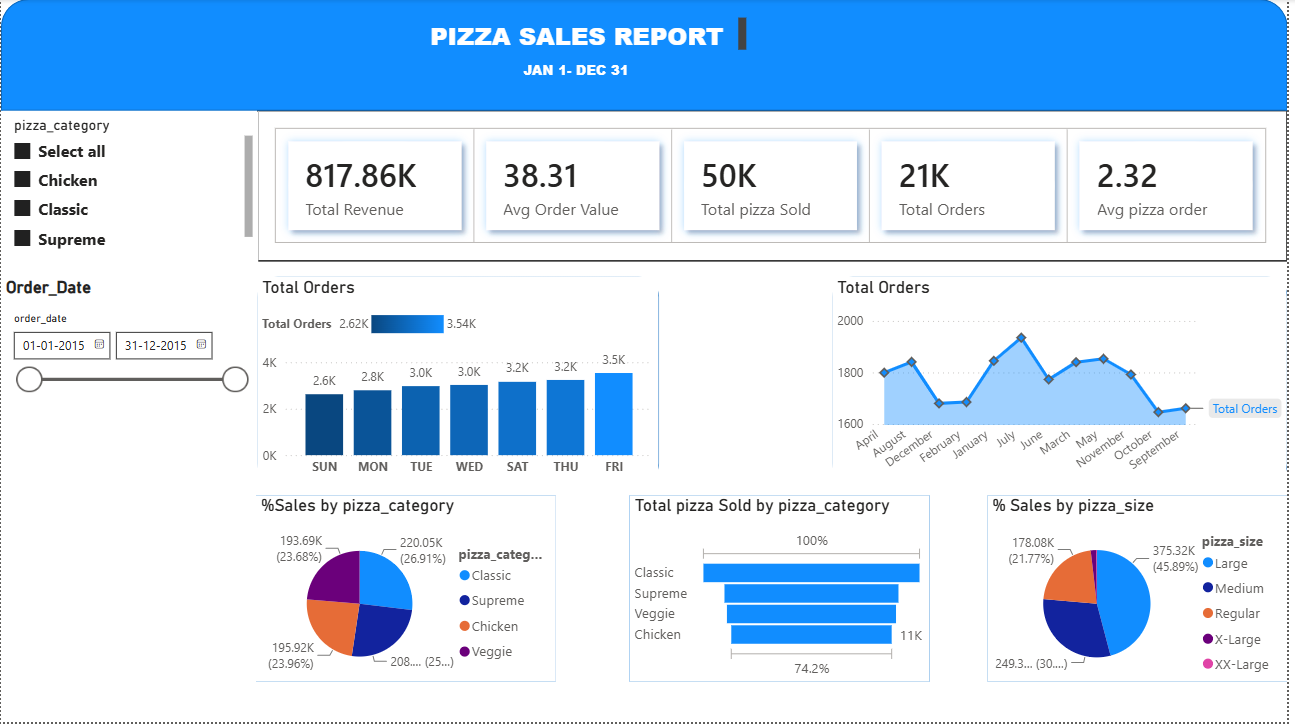

The dashboard page shown, as its layout file describes it:
{"tool":"powerbi","page":{"name":"Dashboard","canvas":[1280,720],"ordinal":0},"visuals":[{"type":"cardVisual","fields":{"Data":["pizza_sales.Total Revenue","pizza_sales.Avg Order Value","pizza_sales.Total pizza Sold","pizza_sales.Total Orders","pizza_sales.Avg pizza order"]},"box":[254.4,111.1,1025.6,150],"z":0},{"type":"shape","box":[0,0,1280.3,111.1],"z":1000},{"type":"textbox","box":[421.3,13.7,325.2,42.5],"z":2000},{"type":"textbox","box":[514.4,55.6,138.9,54.4],"z":3000},{"type":"shape","box":[254.5,276.6,400,206.5],"z":4000},{"type":"columnChart","title":"Total Orders ","fields":{"Category":["pizza_sales.ORDER DAY"],"Y":["pizza_sales.Total Orders"]},"box":[255.6,276.7,398.9,207.8],"z":5000},{"type":"shape","box":[827.3,276.6,453.2,206.5],"z":6000},{"type":"areaChart","title":"Total Orders ","fields":{"Category":["pizza_sales.Month Name"],"Y":["pizza_sales.Total Orders"]},"box":[827.8,276.7,452.2,207.8],"z":7000},{"type":"shape","box":[254.3,494.3,298.6,185.7],"z":8000},{"type":"shape","box":[981.4,494.3,298.6,185.7],"z":9000},{"type":"shape","box":[625.7,494.3,298.6,185.7],"z":10000},{"type":"pieChart","title":"%Sales by pizza_category","fields":{"Category":["pizza_sales.pizza_category"],"Y":["pizza_sales.Total Revenue"]},"box":[254.3,494.3,298.6,185.7],"z":11000},{"type":"pieChart","title":"% Sales by pizza_size","fields":{"Y":["pizza_sales.Total Revenue"],"Category":["pizza_sales.pizza_size"]},"box":[981.4,494.3,298.6,185.7],"z":12000},{"type":"funnel","fields":{"Category":["pizza_sales.pizza_category"],"Y":["pizza_sales.Total pizza Sold"]},"box":[625.7,494.3,298.6,185.7],"z":13000},{"type":"slicer","fields":{"Values":["pizza_sales.pizza_category"]},"box":[0,111.4,255.7,150],"z":14000},{"type":"slicer","title":"Order_Date","fields":{"Values":["pizza_sales.order_date"]},"box":[0,276.6,254.5,126],"z":15000}]}

Visuals, with their boxes in screenshot pixels (x1, y1, x2, y2), scaled from the page's 1280x720 canvas onto the 1295x727 screenshot:
cardVisual - pizza_sales.Total Revenue x pizza_sales.Avg Order Value: 257,112,1294,264
shape: 0,0,1294,112
textbox: 426,14,755,57
textbox: 520,56,661,111
shape: 257,279,662,488
"Total Orders " columnChart: 259,279,662,489
shape: 837,279,1294,488
"Total Orders " areaChart: 838,279,1294,489
shape: 257,499,559,687
shape: 993,499,1294,687
shape: 633,499,935,687
"%Sales by pizza_category" pieChart: 257,499,559,687
"% Sales by pizza_size" pieChart: 993,499,1294,687
funnel - pizza_sales.pizza_category x pizza_sales.Total pizza Sold: 633,499,935,687
slicer - pizza_sales.pizza_category: 0,112,259,264
"Order_Date" slicer: 0,279,257,407
